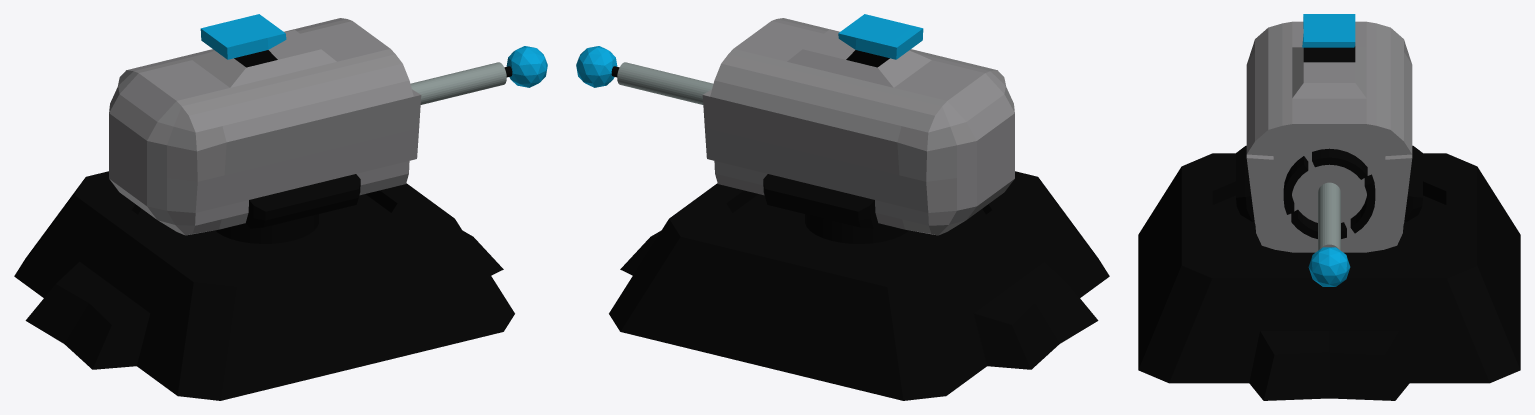
Rendered from laserowawie.fbx.
3 views of the same model, side by side, from view 1: azimuth 30°, elevation 25°; view 2: azimuth 150°, elevation 25°; view 3: azimuth 270°, elevation 25° (orthographic).
Parts seen in each view (by area): view 1: base, head; view 2: base, head; view 3: base, head.
Part boxes in pixels (x1,y1,x2,y2): base: (14,171,514,400); head: (109,14,547,235); base: (609,171,1109,400); head: (576,14,1014,235); base: (1138,153,1520,400); head: (1236,14,1422,286).
Bounding box in the file's own units: 288 × 153 × 200.
